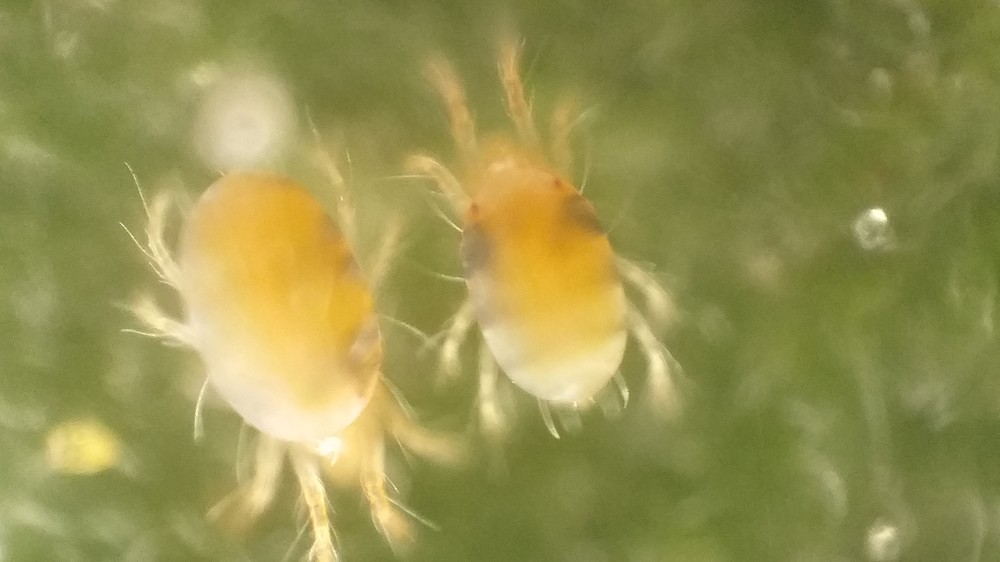Aracnido Rojo: (106, 139, 460, 558), (395, 44, 701, 475)
